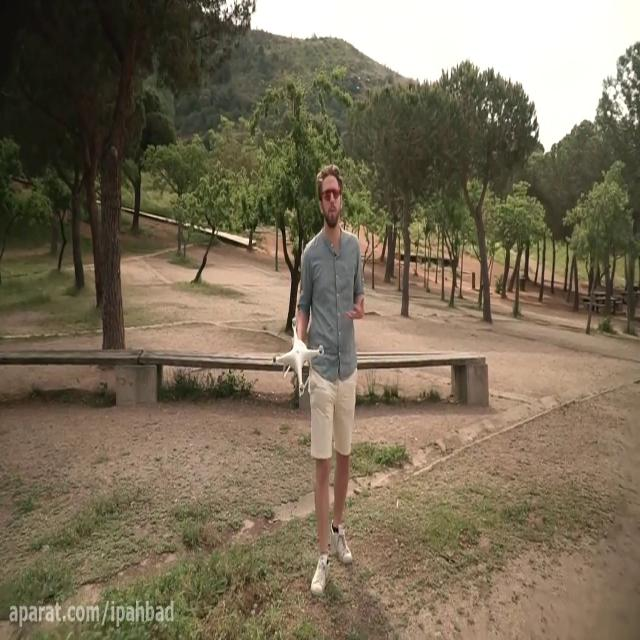drone: (270, 316, 326, 396)
